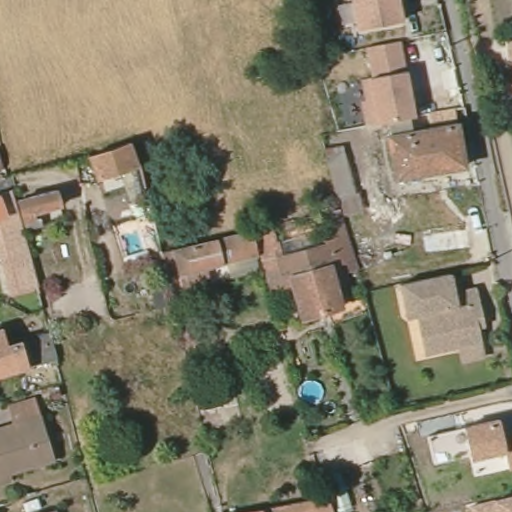pool: (295, 377, 329, 405), (120, 230, 149, 258)
